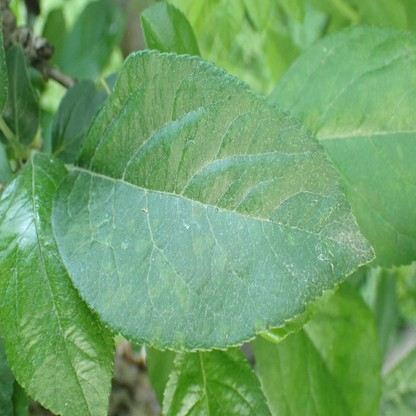powdery_mildew: (331, 213, 370, 258)
scab: (158, 254, 188, 307), (65, 222, 96, 252), (102, 285, 131, 305), (194, 236, 214, 255), (137, 239, 150, 258), (151, 326, 162, 346), (173, 330, 184, 350), (254, 317, 266, 334), (148, 287, 159, 305), (192, 208, 202, 221), (287, 232, 295, 246), (139, 305, 146, 320), (152, 216, 160, 228), (104, 262, 113, 272), (127, 217, 135, 227)
